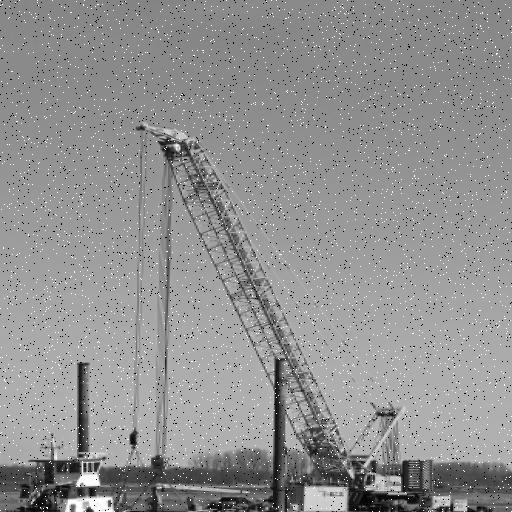tugboat: (1, 432, 143, 512)
